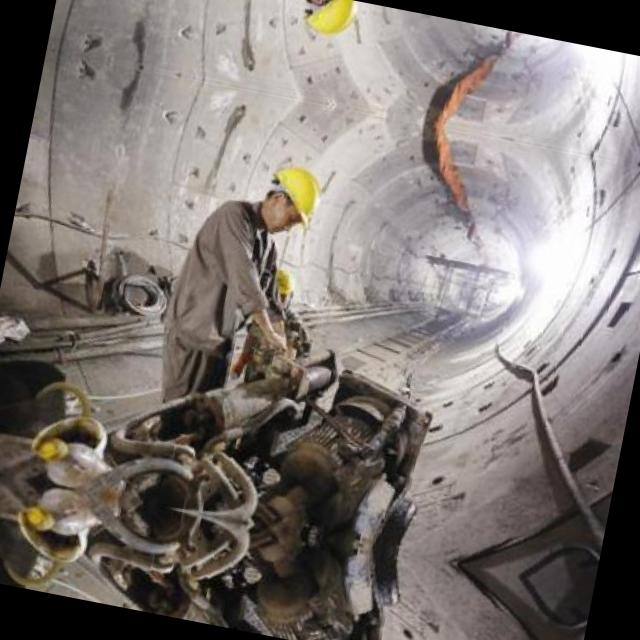helmet: (250, 152, 328, 241), (287, 0, 361, 49), (257, 262, 306, 322)
